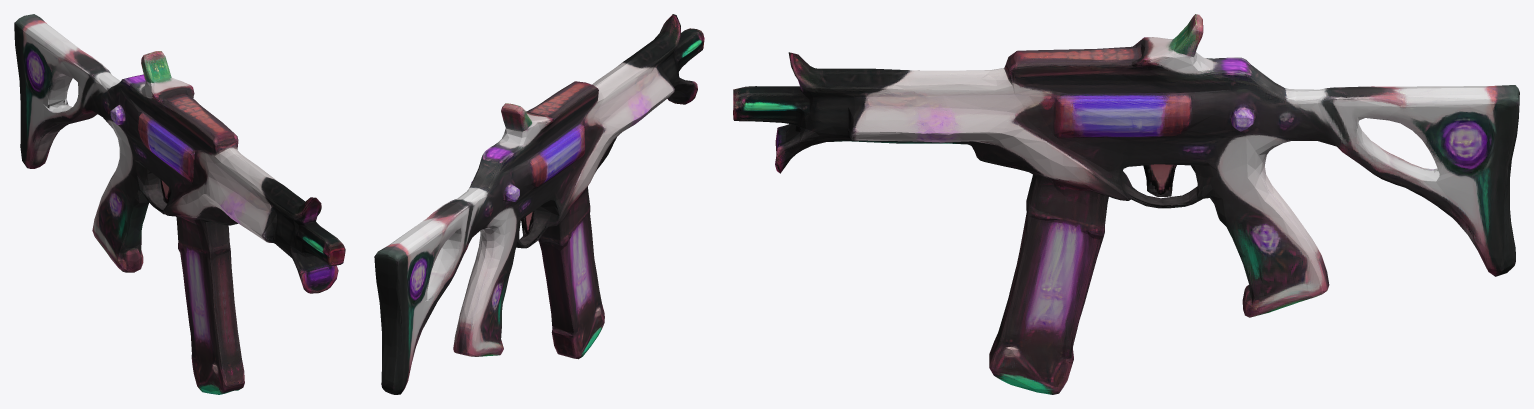
File: tsuki_carbine_skin_300.fbx
The picture shows the model from 3 angles, left to right: view 1: azimuth 30°, elevation 25°; view 2: azimuth 150°, elevation 25°; view 3: azimuth 270°, elevation 25°; orthographic projection. The views are drawn at different scales.
Visible parts, largest first — view 1: geometry_0; view 2: geometry_0; view 3: geometry_0.
Part boxes in pixels (x1,y1,x2,y2): geometry_0: [14, 14, 345, 394]; geometry_0: [374, 14, 704, 394]; geometry_0: [733, 14, 1519, 394].
Bounding box in the file's own units: 0.1027 × 0.5204 × 1.
Materials: 1 (1 with a texture image).
